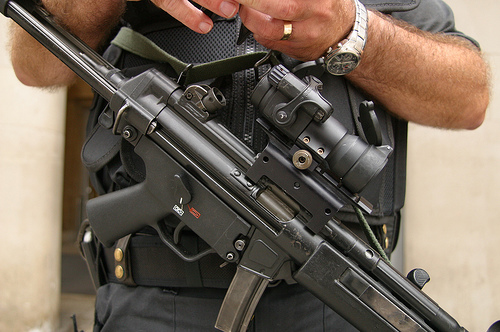rifle: (72, 40, 464, 332)
